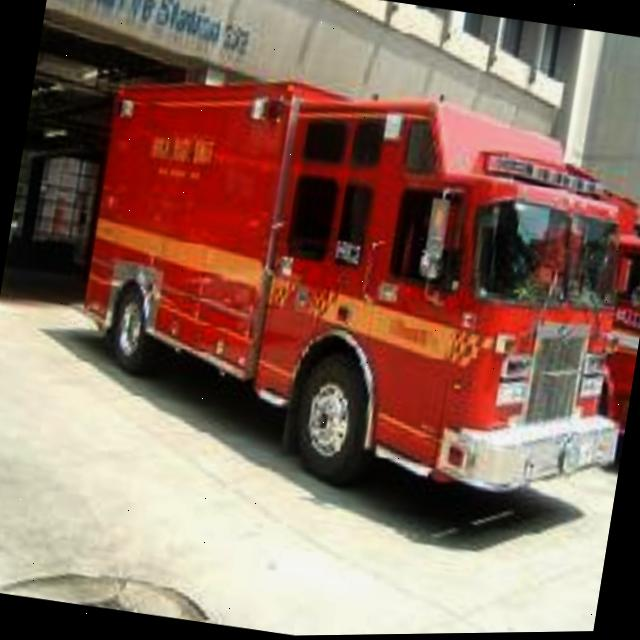emergency: (51, 52, 640, 527)
